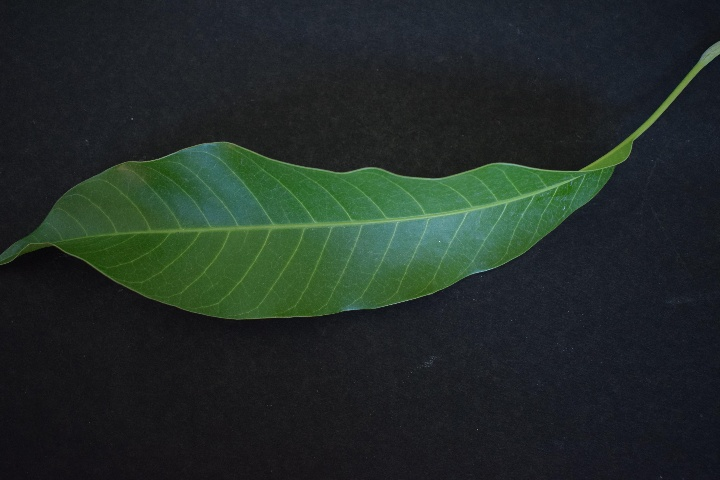healthy: (40, 137, 637, 325)
